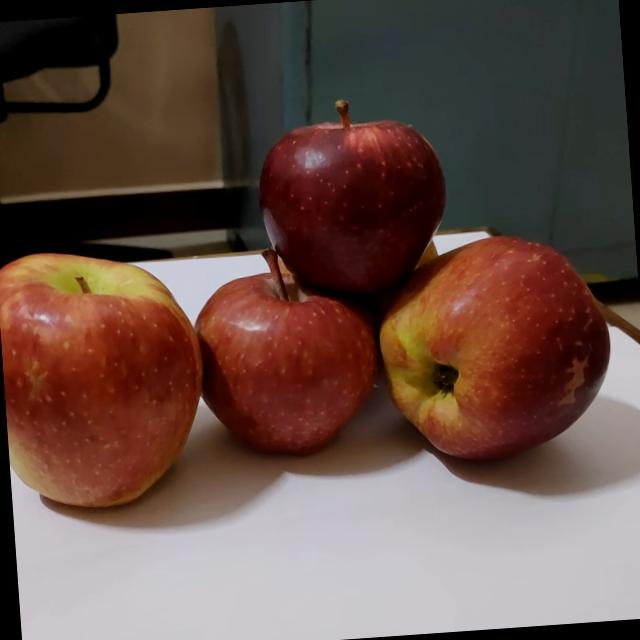apple: (0, 232, 227, 522), (371, 219, 628, 473), (247, 82, 463, 306), (192, 242, 390, 474), (401, 224, 451, 284)
